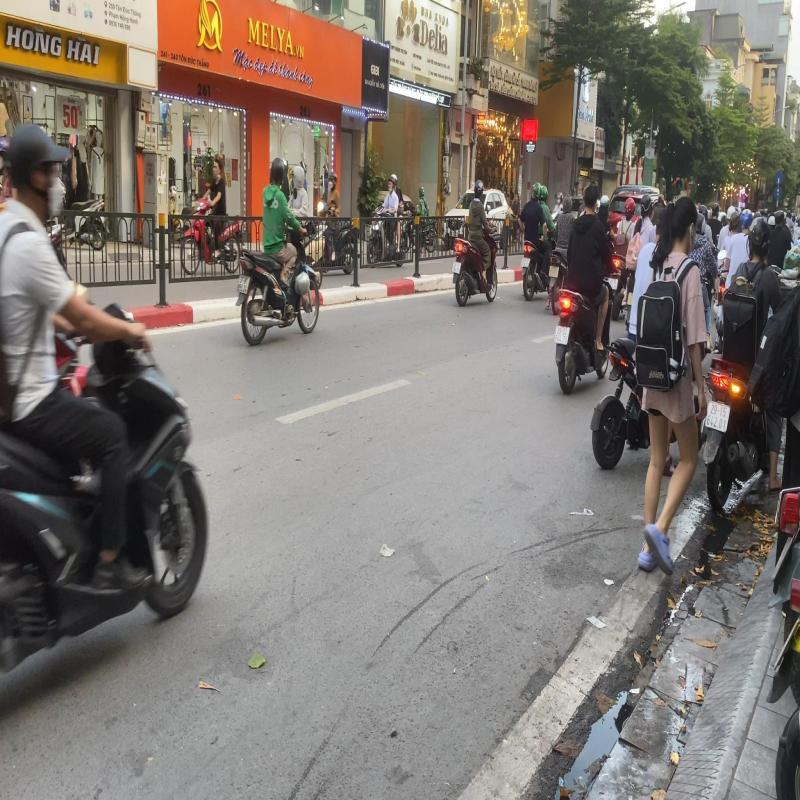nohelmet: (582, 181, 600, 212)
